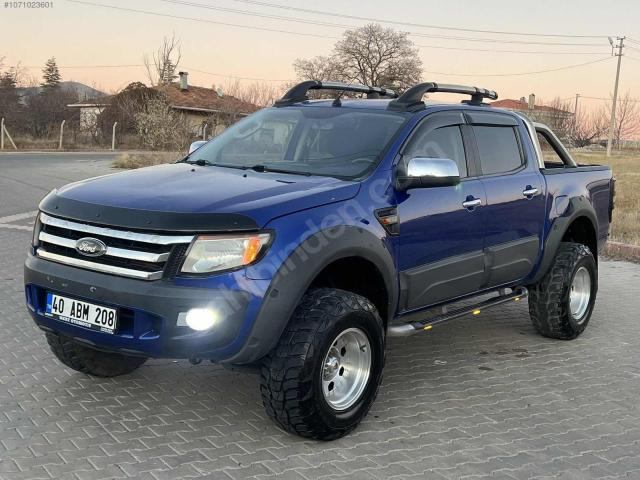plaka: (45, 294, 118, 333)
